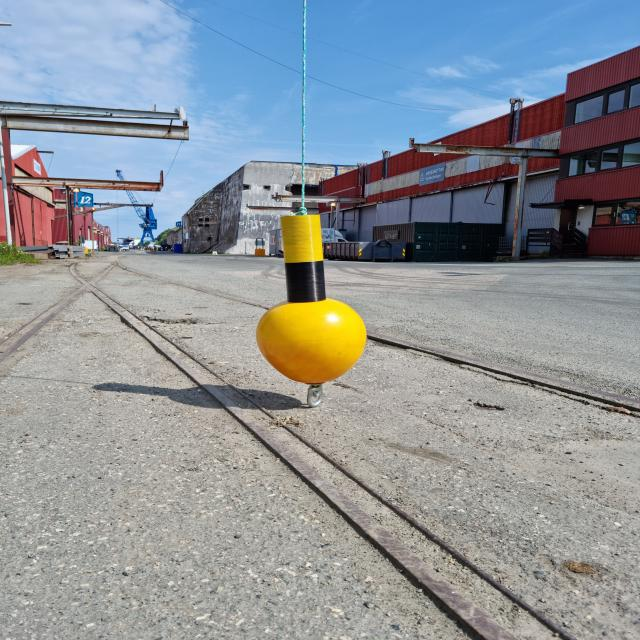west: (258, 214, 367, 383)
